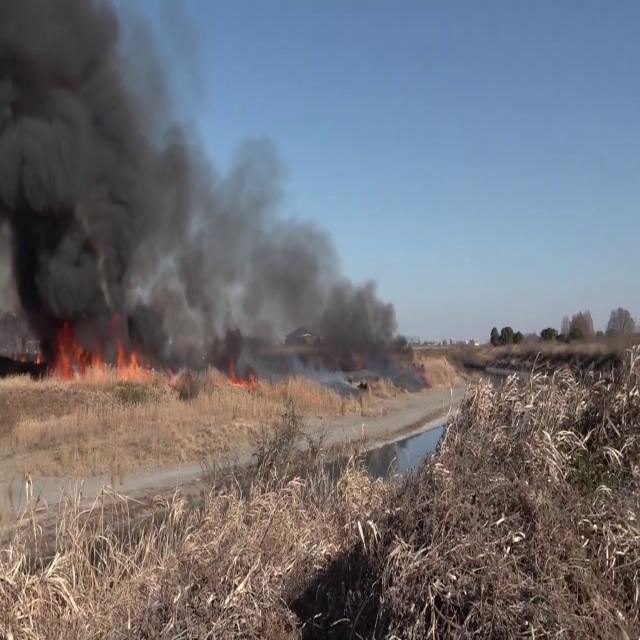Fire: (41, 322, 160, 387)
Smoke: (0, 0, 208, 362), (192, 154, 426, 376)
